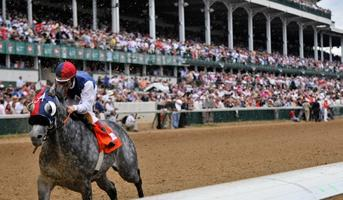person: (32, 61, 118, 152)
